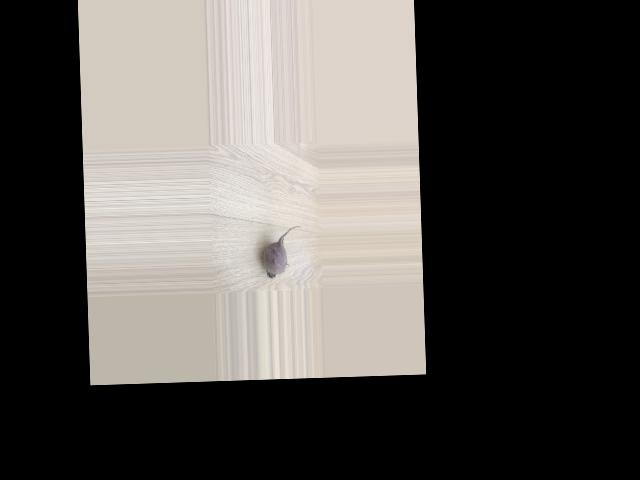beet: (261, 224, 302, 277)
